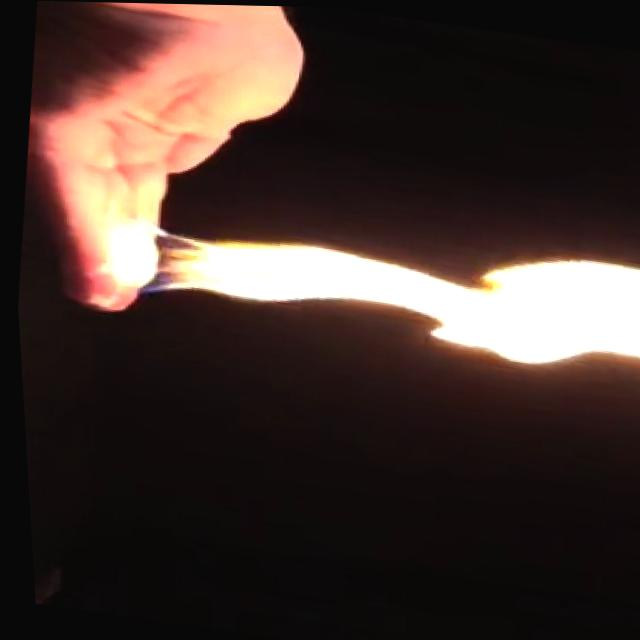Fire: (98, 177, 640, 381)
